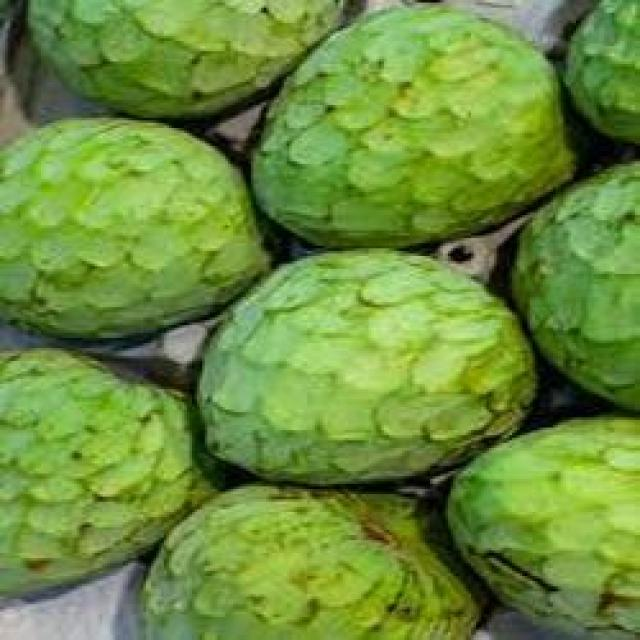custard_apple: (195, 253, 542, 471), (258, 13, 578, 233), (5, 118, 271, 340), (133, 494, 502, 640), (2, 354, 222, 596)
